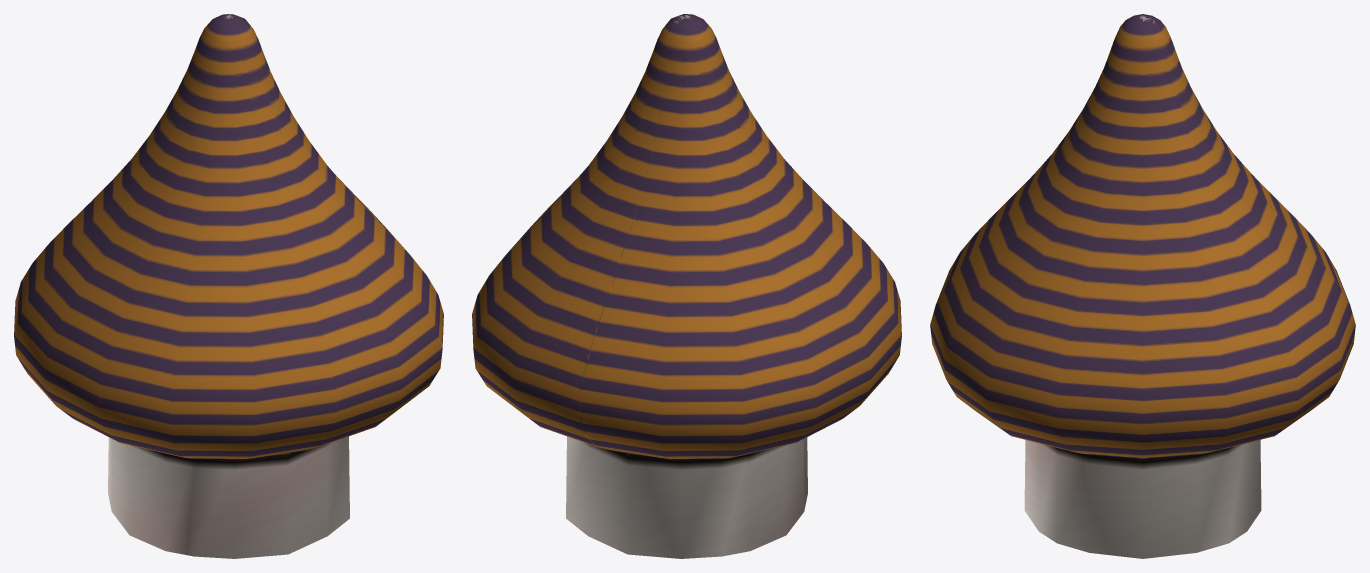
Rendered from Zwiebel_C_01.fbx.
3 views of the same model, side by side, from view 1: azimuth 30°, elevation 25°; view 2: azimuth 150°, elevation 25°; view 3: azimuth 270°, elevation 25° (orthographic).
Visible parts, largest first — view 1: Zwiebel_C_01; view 2: Zwiebel_C_01; view 3: Zwiebel_C_01.
Part boxes in pixels (<box>): Zwiebel_C_01: <box>14,14,443,558</box>; Zwiebel_C_01: <box>472,14,901,558</box>; Zwiebel_C_01: <box>930,14,1355,558</box>.
Bounding box in the file's own units: 46.25 × 59.2 × 46.25.
